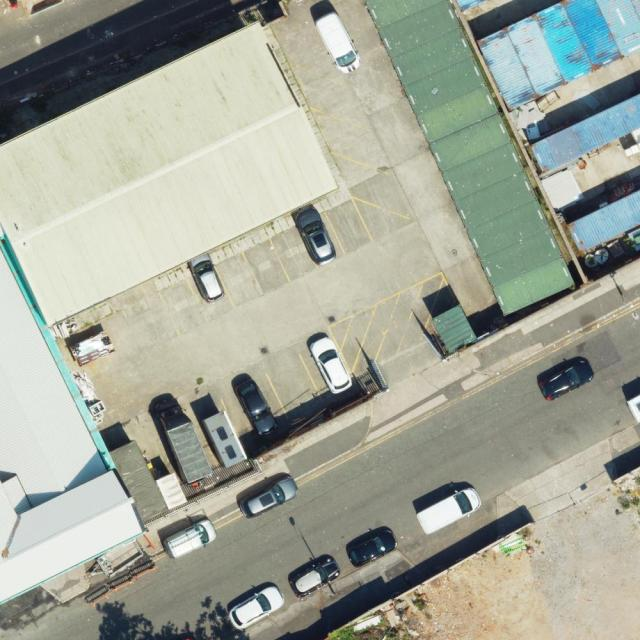roof: (0, 19, 341, 608)
